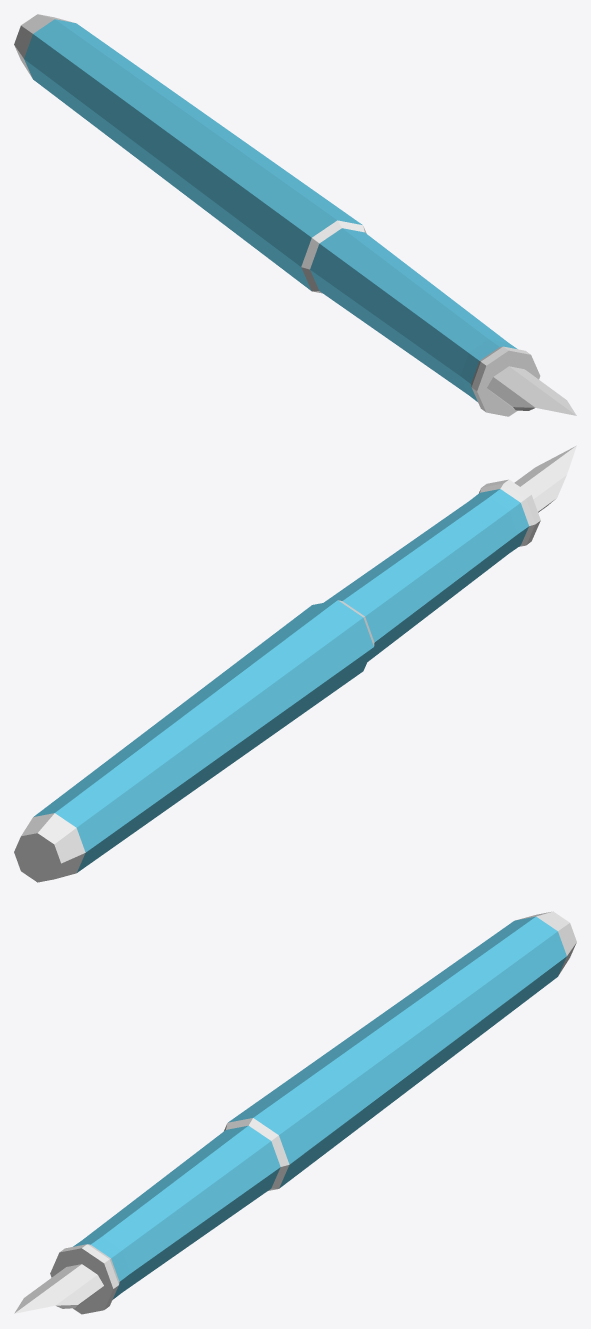
The model's file is StyloPlume.fbx.
3 views of the same model, one above another, from view 1: azimuth 30°, elevation 25°; view 2: azimuth 150°, elevation 25°; view 3: azimuth 330°, elevation 25° (orthographic).
Visible parts, largest first — view 1: StyloPlume; view 2: StyloPlume; view 3: StyloPlume.
Boxes of the visible parts, box(x1,y1,x2,y2) form: StyloPlume: box(14, 14, 576, 416); StyloPlume: box(14, 445, 576, 882); StyloPlume: box(14, 911, 576, 1314).
Bounding box in the file's own units: 1.38 × 1.38 × 17.74.
